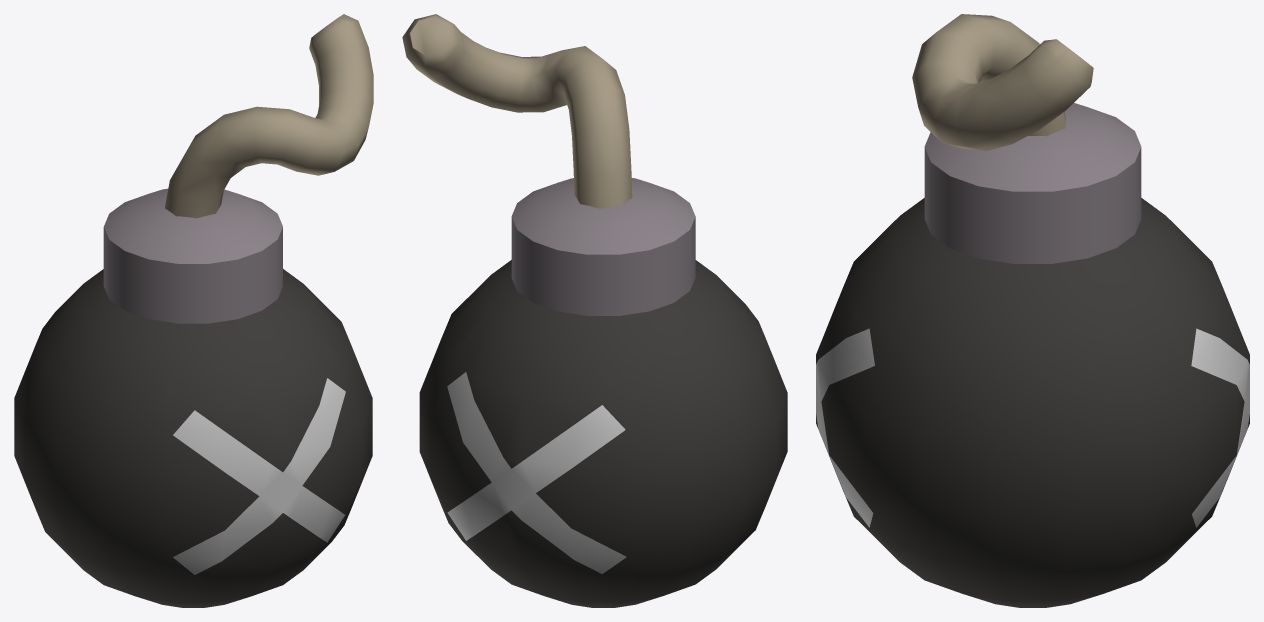
The model's file is Bomb-transformed.glb.
3 renders of one model, left to right at view 1: azimuth 30°, elevation 25°; view 2: azimuth 150°, elevation 25°; view 3: azimuth 270°, elevation 25°, orthographic. The views are drawn at different scales.
Visible parts, largest first — view 1: Prop_Bomb; view 2: Prop_Bomb; view 3: Prop_Bomb.
Part boxes in pixels (bbox=[...]): Prop_Bomb: bbox=[14, 14, 373, 607]; Prop_Bomb: bbox=[402, 14, 787, 607]; Prop_Bomb: bbox=[816, 14, 1249, 607].
Size of the model in its own units: 0.456 by 0.6954 by 0.4272.
1 material, 1 textured.
